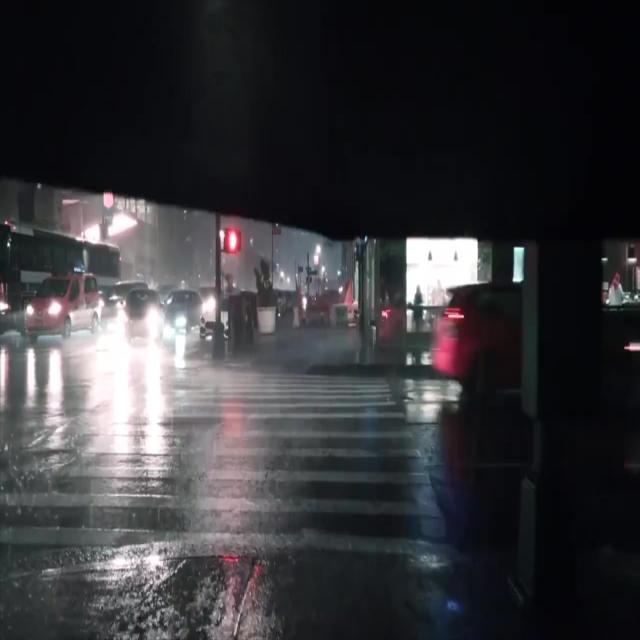Car: (119, 289, 160, 341)
